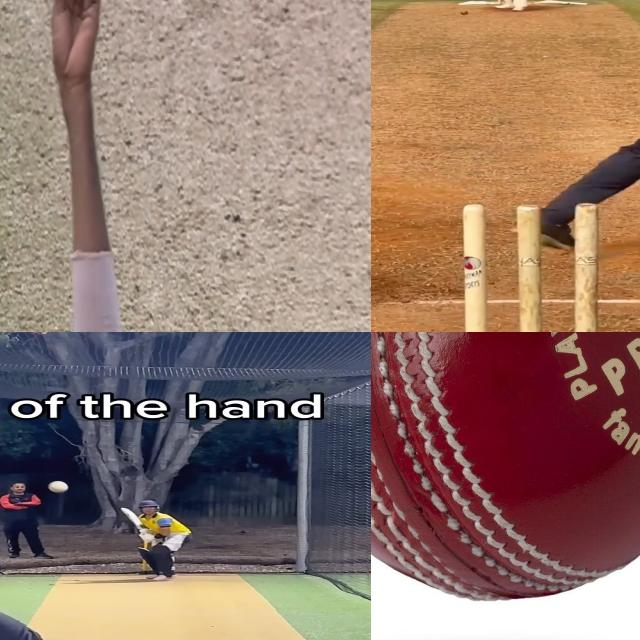Cricket ball: (371, 332, 640, 608), (47, 481, 69, 494), (459, 10, 468, 15)
Stumps: (456, 202, 607, 332)
